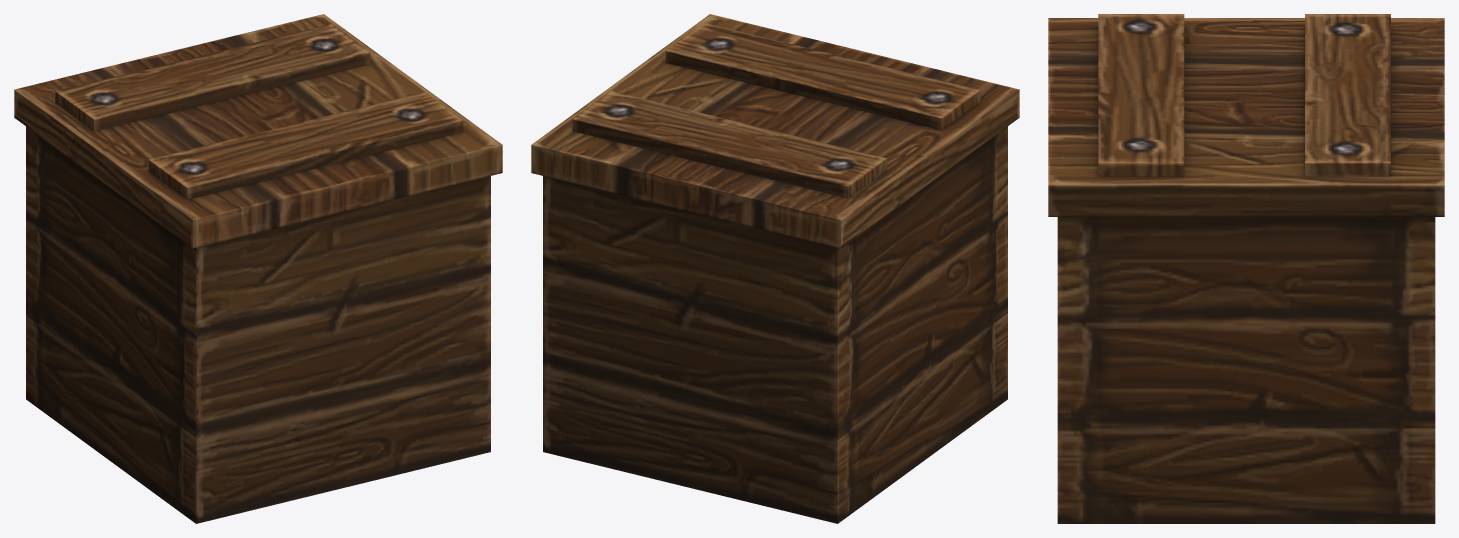
The model's file is Prop_Chest1.fbx.
3 renders of one model, left to right at view 1: azimuth 30°, elevation 25°; view 2: azimuth 150°, elevation 25°; view 3: azimuth 270°, elevation 25°, orthographic. The views are drawn at different scales.
Parts seen in each view (by area): view 1: polySurface577; view 2: polySurface577; view 3: polySurface577.
Part boxes in pixels (x1=…): polySurface577: x1=14, y1=14, x2=502, y2=523; polySurface577: x1=531, y1=14, x2=1019, y2=523; polySurface577: x1=1048, y1=14, x2=1444, y2=523.
Bounding box in the file's own units: 0.9089 × 0.8988 × 0.9089.
1 material, 1 textured.
